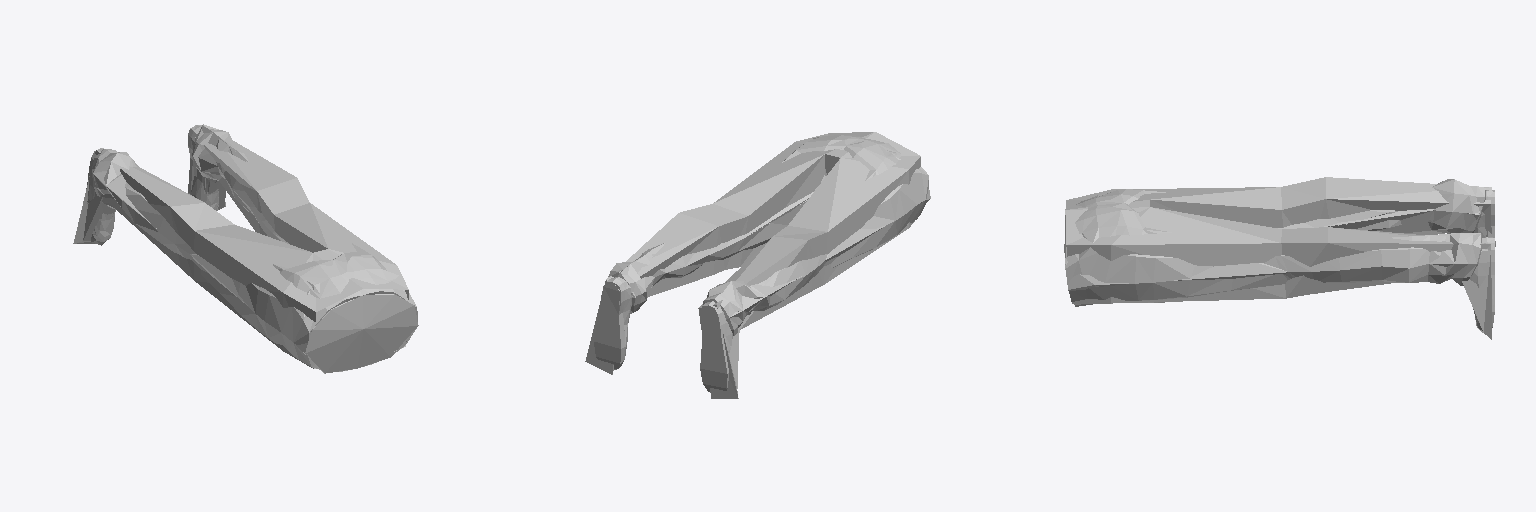
File: lowr_000_u.obj
3 renders of one model, left to right at view 1: azimuth 30°, elevation 25°; view 2: azimuth 150°, elevation 25°; view 3: azimuth 270°, elevation 25°, orthographic.
Visible parts, largest first — view 1: lowr_000_u_low_1, lowr_000_u_high_1, lowr_000_u_med_1; view 2: lowr_000_u_low_1, lowr_000_u_high_1, lowr_000_u_med_1; view 3: lowr_000_u_low_1, lowr_000_u_high_1, lowr_000_u_med_1.
Part boxes in pixels (bbox=[...]): lowr_000_u_low_1: bbox=[73, 137, 408, 368]; lowr_000_u_high_1: bbox=[86, 124, 417, 371]; lowr_000_u_med_1: bbox=[87, 125, 418, 373]; lowr_000_u_low_1: bbox=[585, 132, 920, 398]; lowr_000_u_high_1: bbox=[594, 135, 928, 391]; lowr_000_u_med_1: bbox=[594, 146, 930, 372]; lowr_000_u_low_1: bbox=[1065, 177, 1491, 339]; lowr_000_u_high_1: bbox=[1065, 179, 1494, 332]; lowr_000_u_med_1: bbox=[1064, 190, 1495, 321].
Size of the model in its own units: 0.4272 by 0.2861 by 1.04.